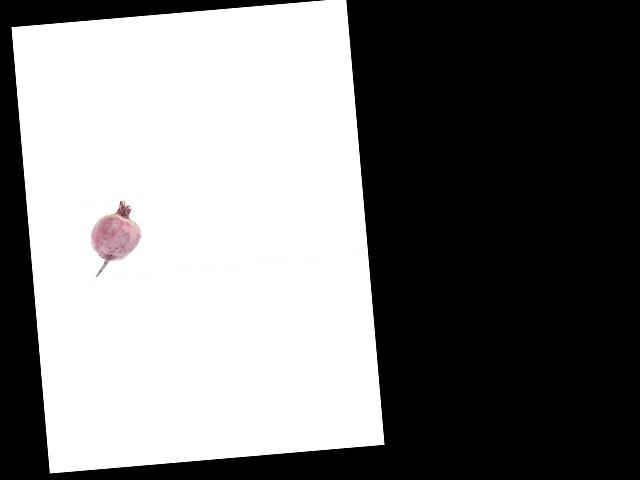beet: (87, 198, 144, 277)
